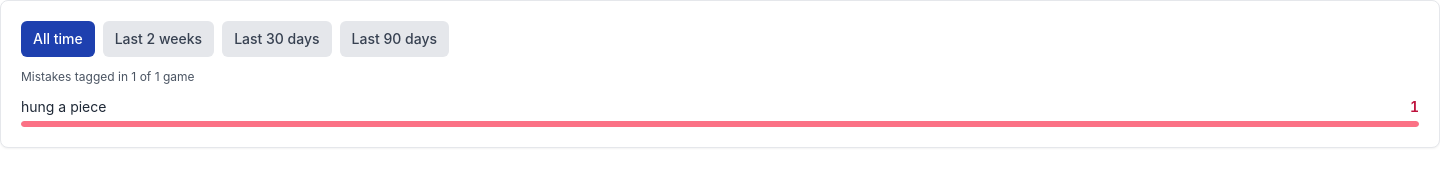
Test case: MistakeStatsSection › explains an empty window
Step 1. Click the button "Last 30 days" → point(277, 39), box [222,21,332,57]
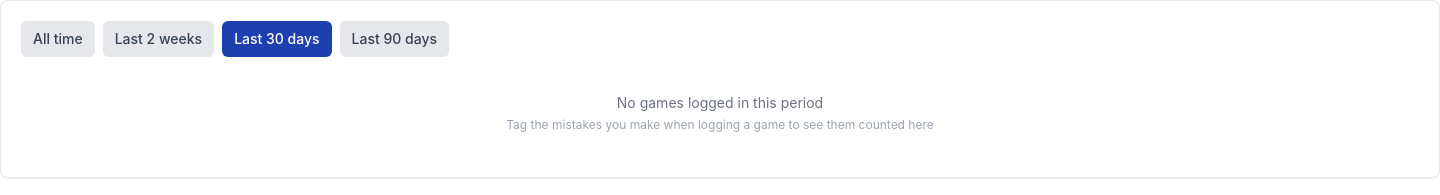
Expected: the text "No games logged in this period" is shown, [617,94,823,111]
